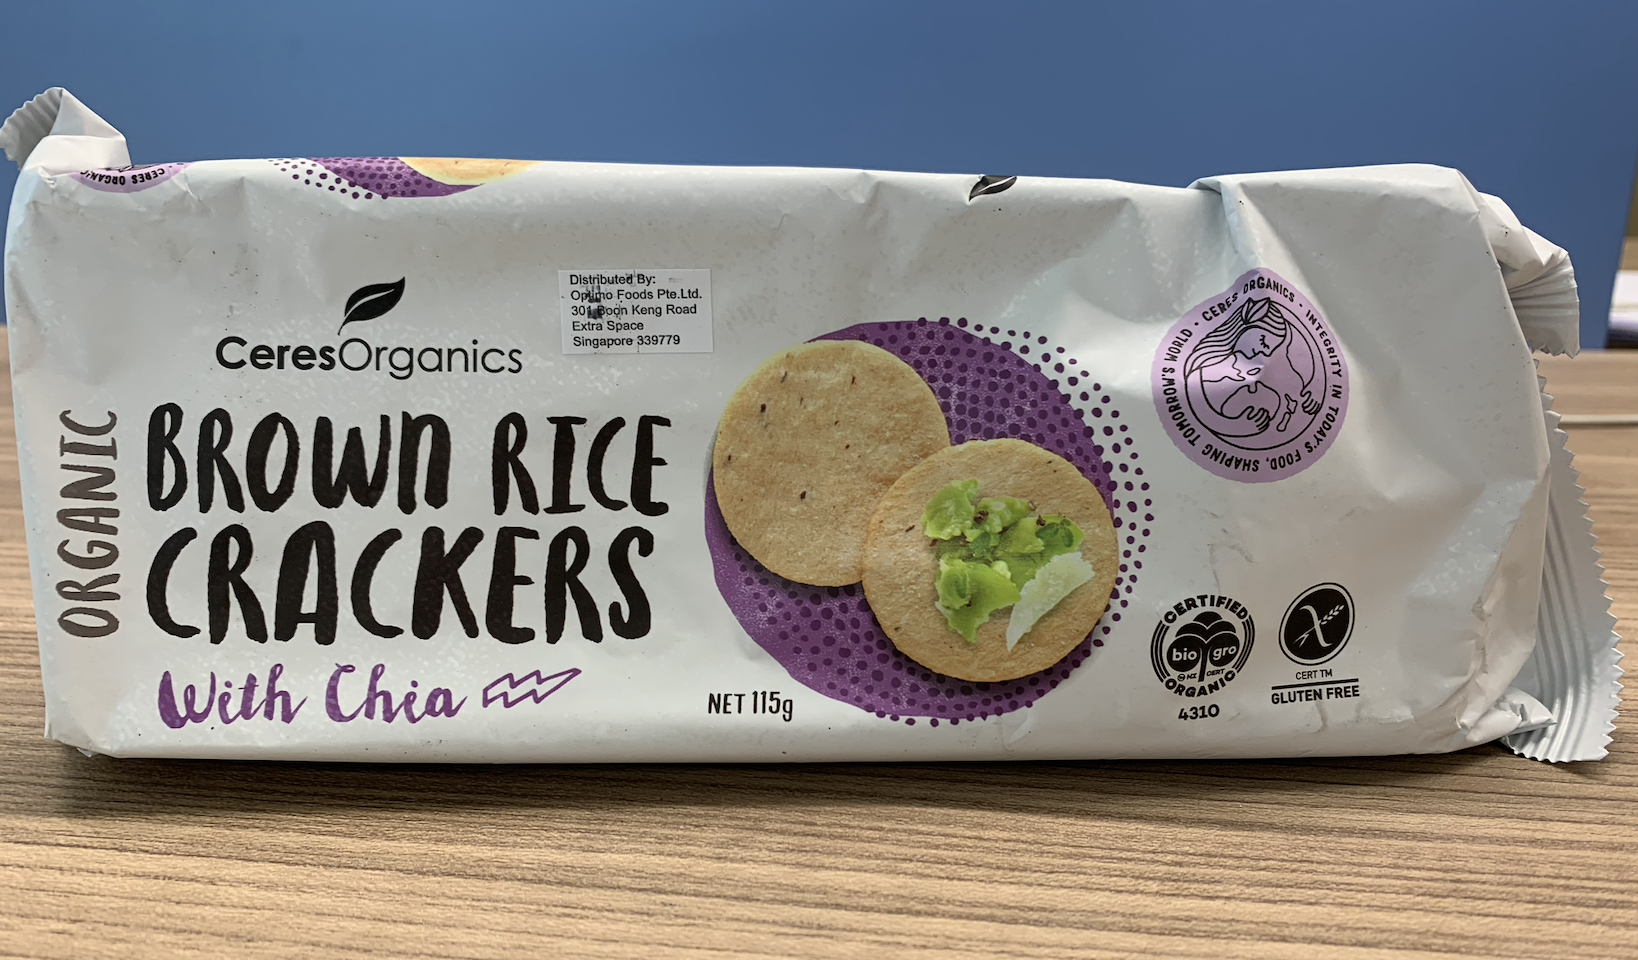crackers_150g: (37, 216, 1462, 741)
